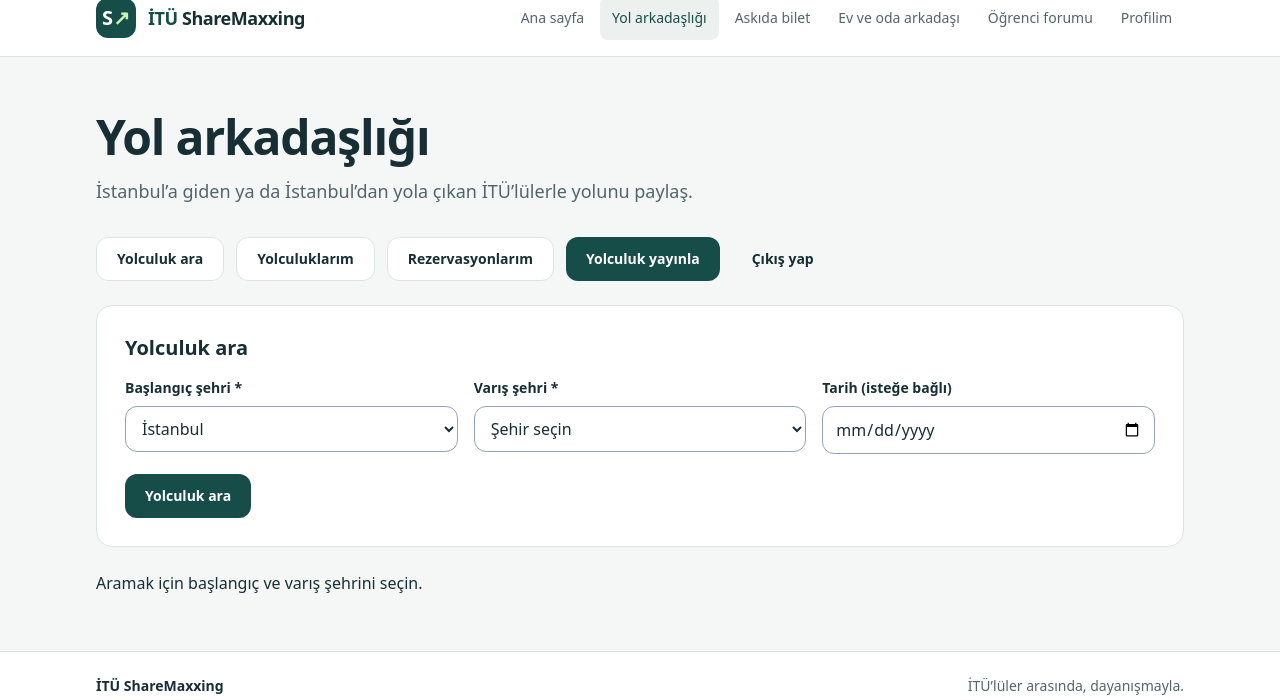
Test: searches trips by cities and date, showing free-seat trips first and full badge
Select "İstanbul" in the dropdown labelled "Başlangıç şehri *". click: [291, 429]
box: [125, 406, 458, 452]
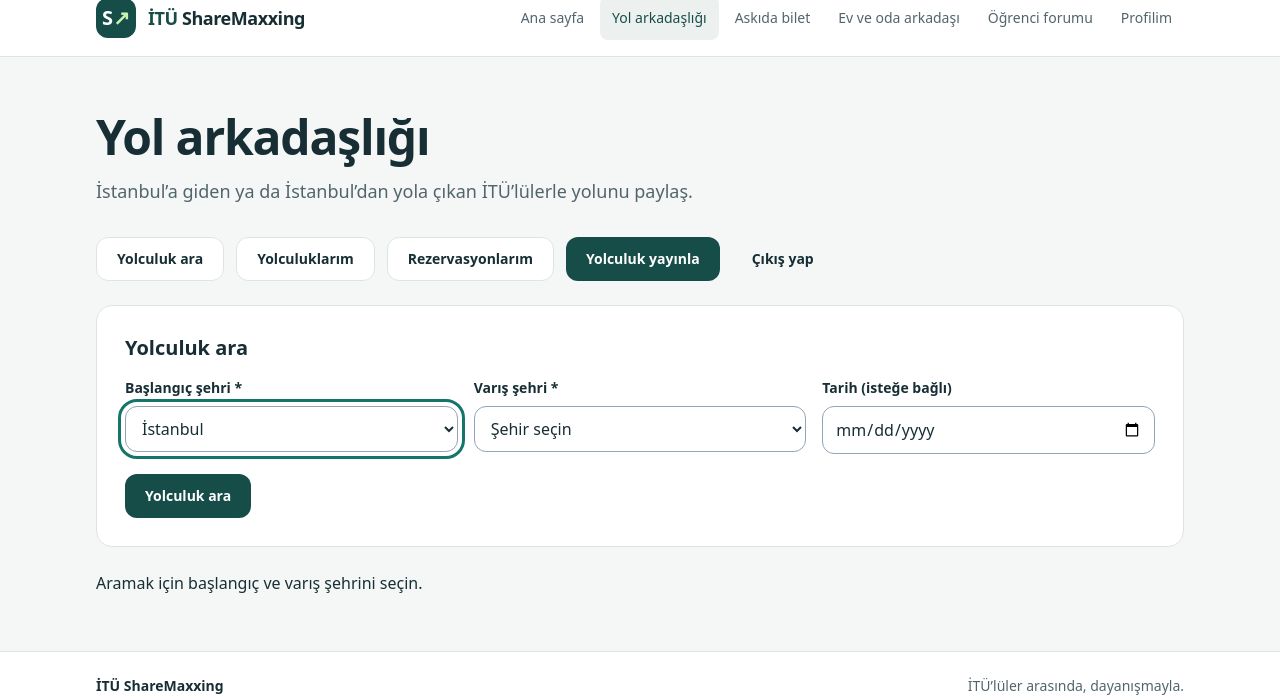
Select "Ankara" in the dropdown labelled "Varış şehri *". click: [640, 429]
box: [474, 406, 806, 452]
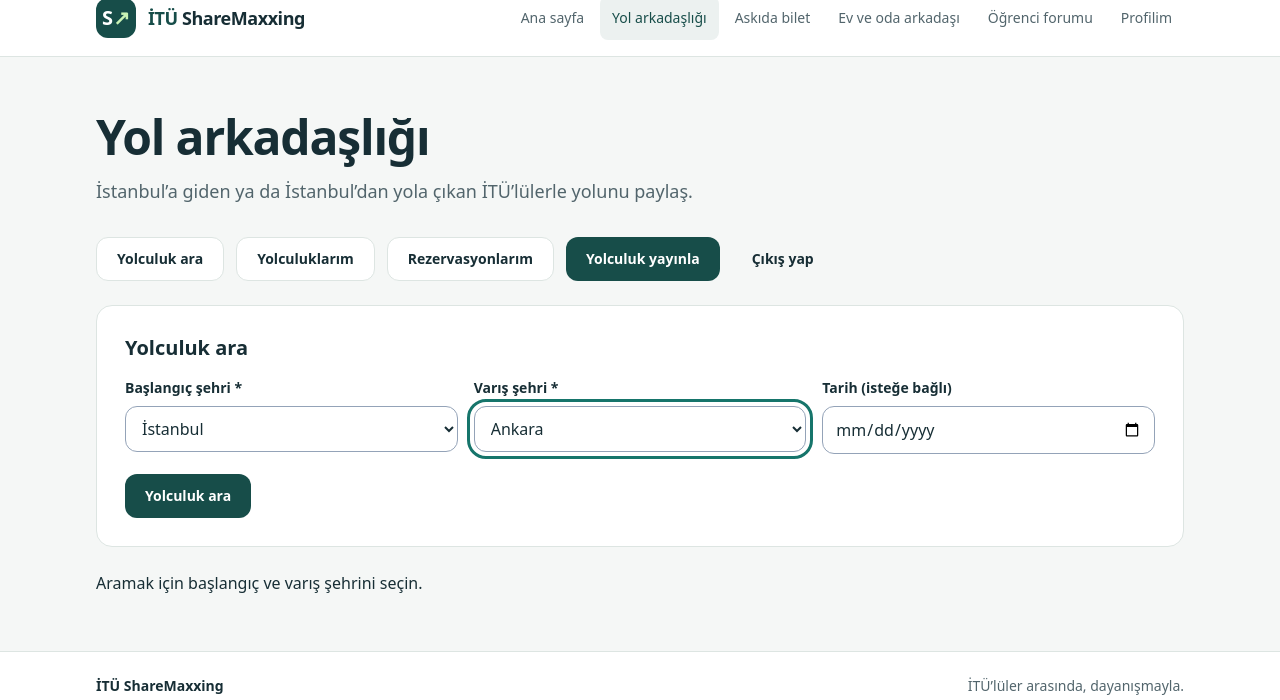
Type "2026-12-20" into the date field labelled "Tarih (isteğe bağlı)". click: [989, 430]
box: [822, 406, 1155, 454]
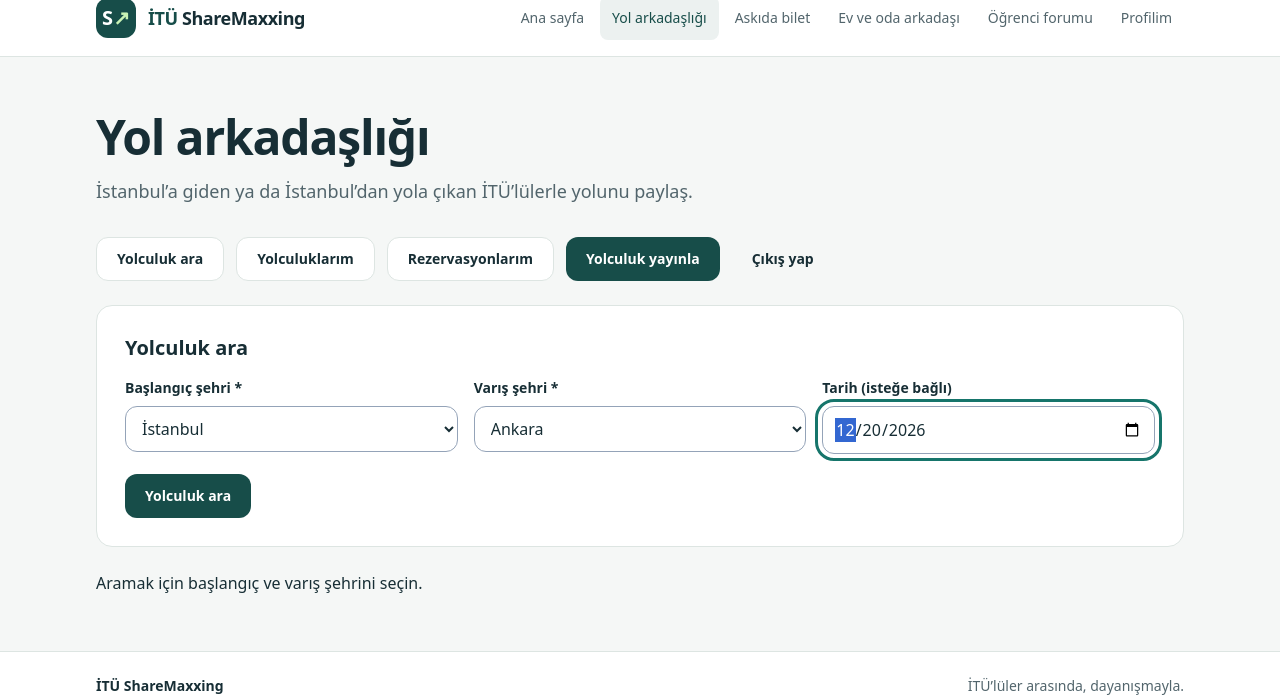
Click the button "Yolculuk ara". click: [188, 496]
box: [125, 474, 251, 518]
(page scrolled)
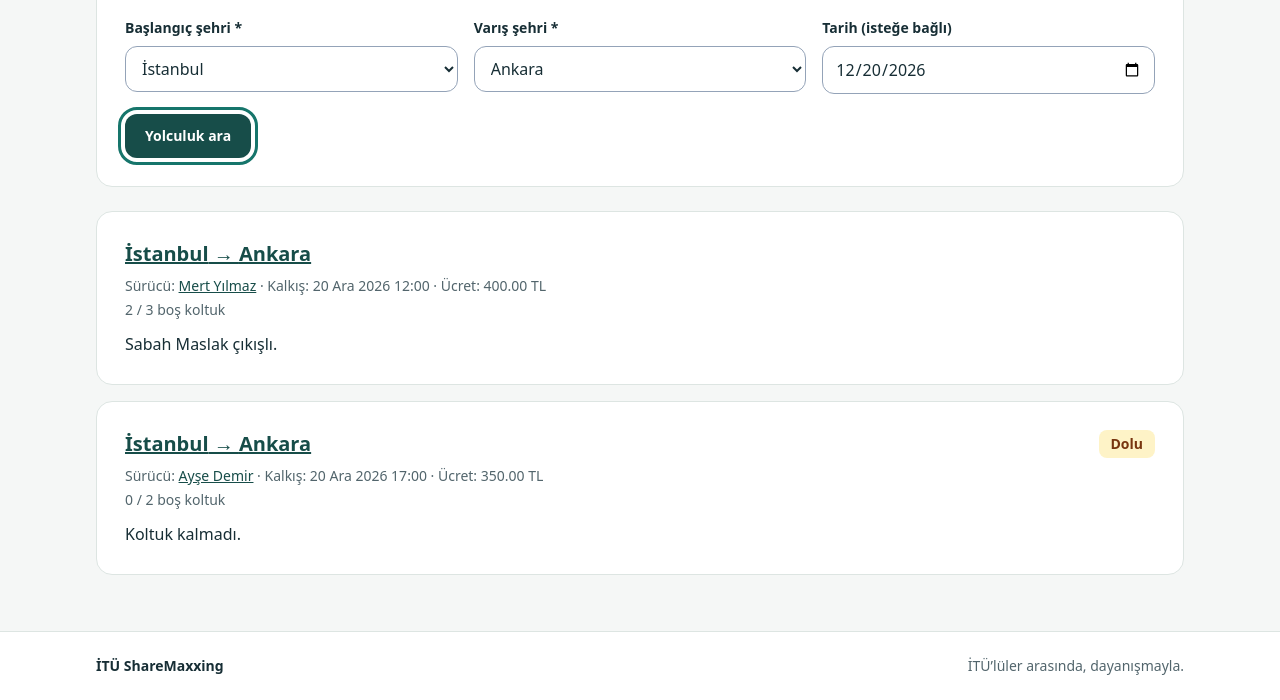
Now the number of links "İstanbul → Ankara" is 2, box [125, 240, 311, 267]; [125, 430, 311, 457]
Now the text "2 / 3 boş koltuk" is shown, box [125, 300, 225, 319]
Now the text "0 / 2 boş koltuk" is shown, box [125, 490, 225, 509]
